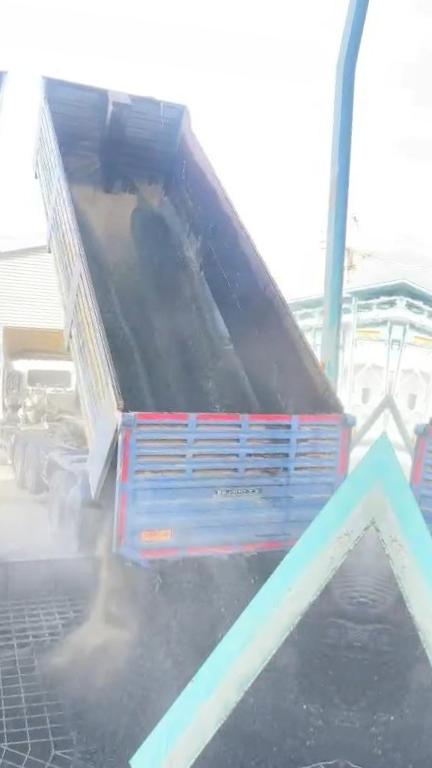gravel: (57, 555, 275, 760), (74, 187, 257, 412), (195, 589, 357, 768)
